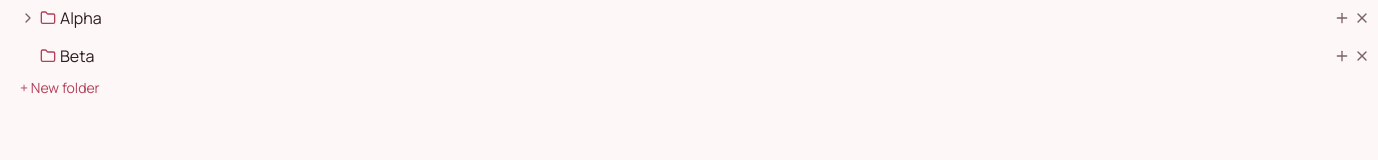
Test case: FolderTree › expand/collapse › hides child folder after collapsing an expanded parent
The width and height of the screenshot is (1378, 160).
Click the button named "Toggle folder expansion" at coordinates (28, 18), box [20,10,36,26]
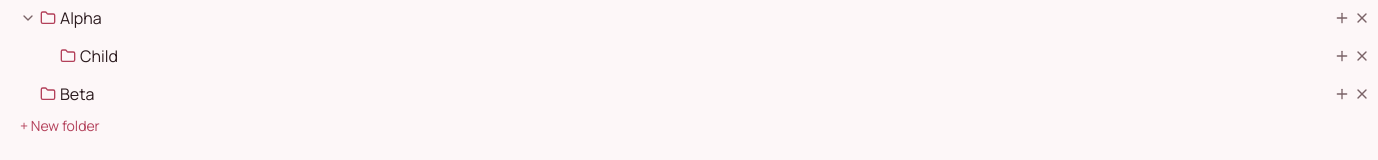
Click the button named "Toggle folder expansion" at coordinates (28, 18), box [20,10,36,26]
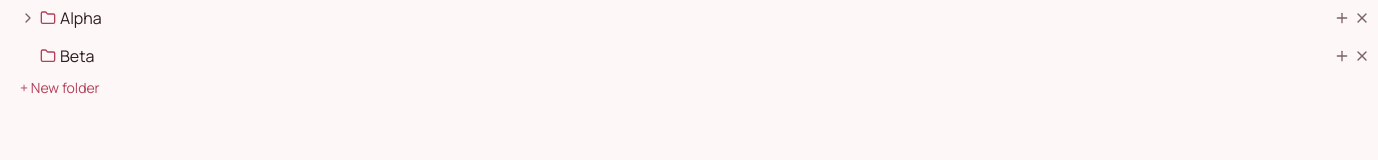
Check: the text "Child" is gone
